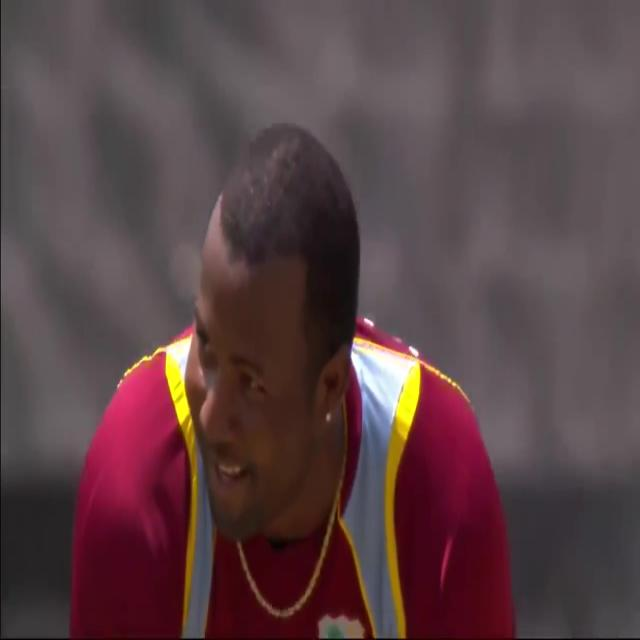Fielder: (54, 0, 541, 638)
